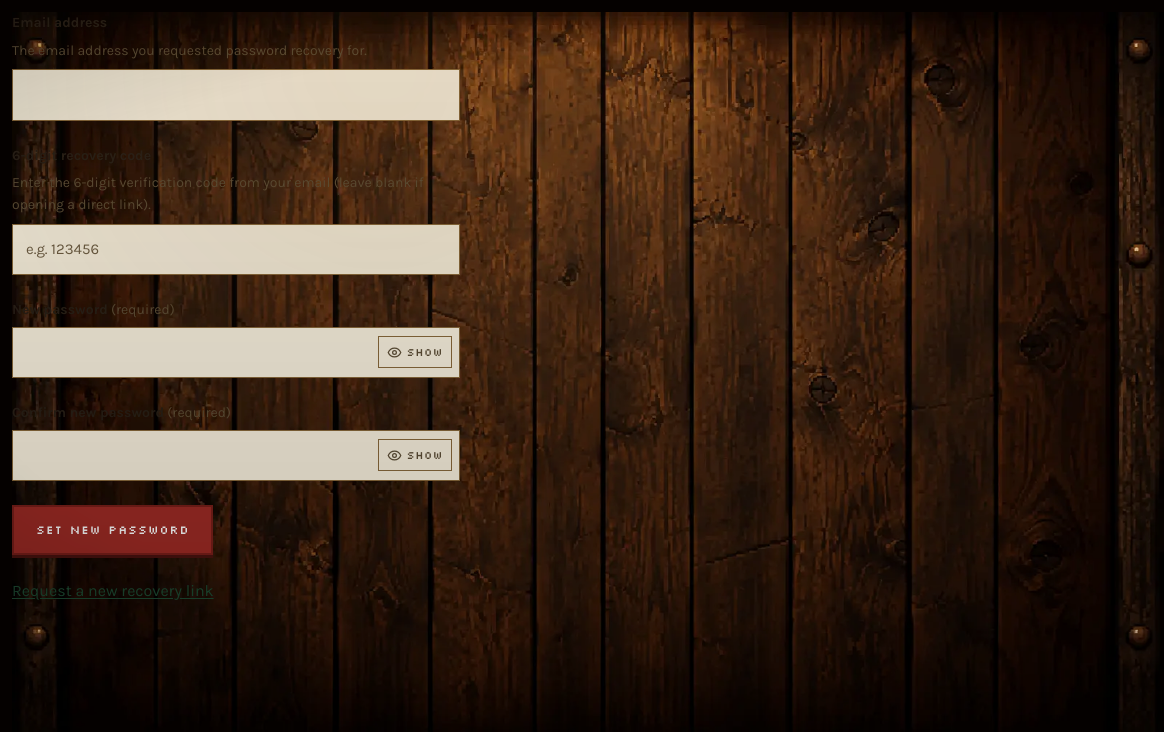
Test case: requires matching strong passwords before sending a request
Type "weak" into the password field labelled "New password (required)".
click(236, 352); type("weak")  # box [12, 327, 460, 378]
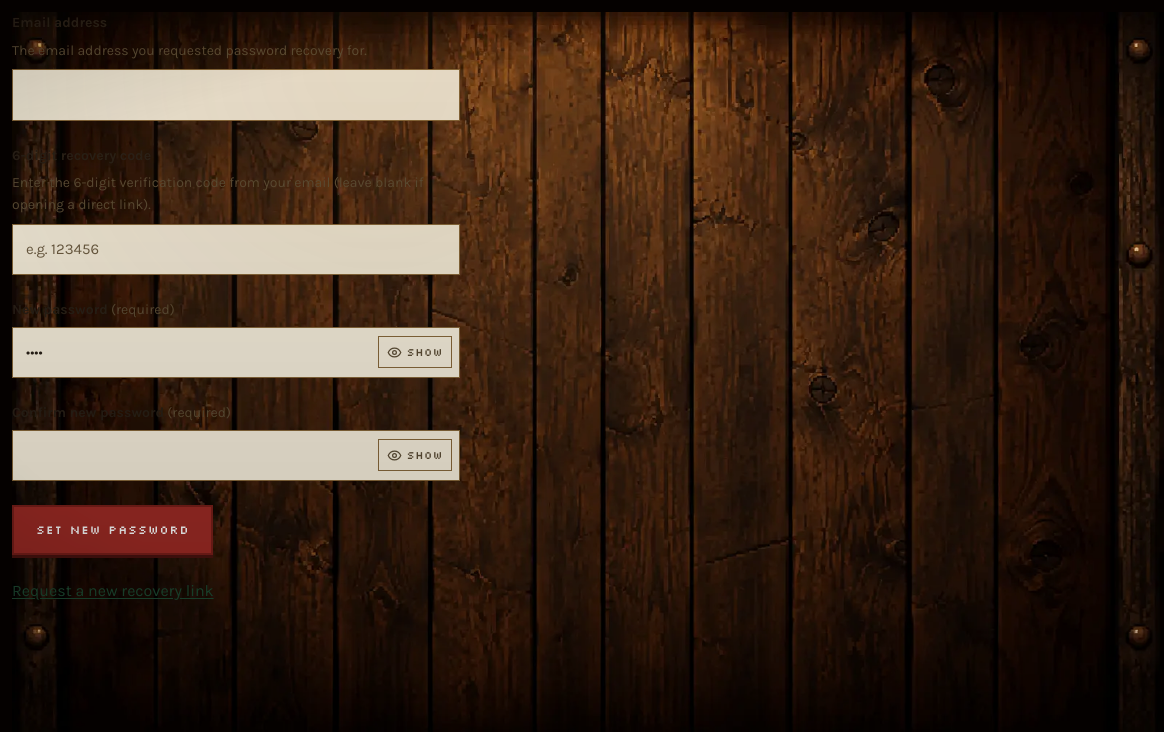
Type "different" into the password field labelled "Confirm new password (required)".
click(236, 455); type("different")  # box [12, 430, 460, 481]
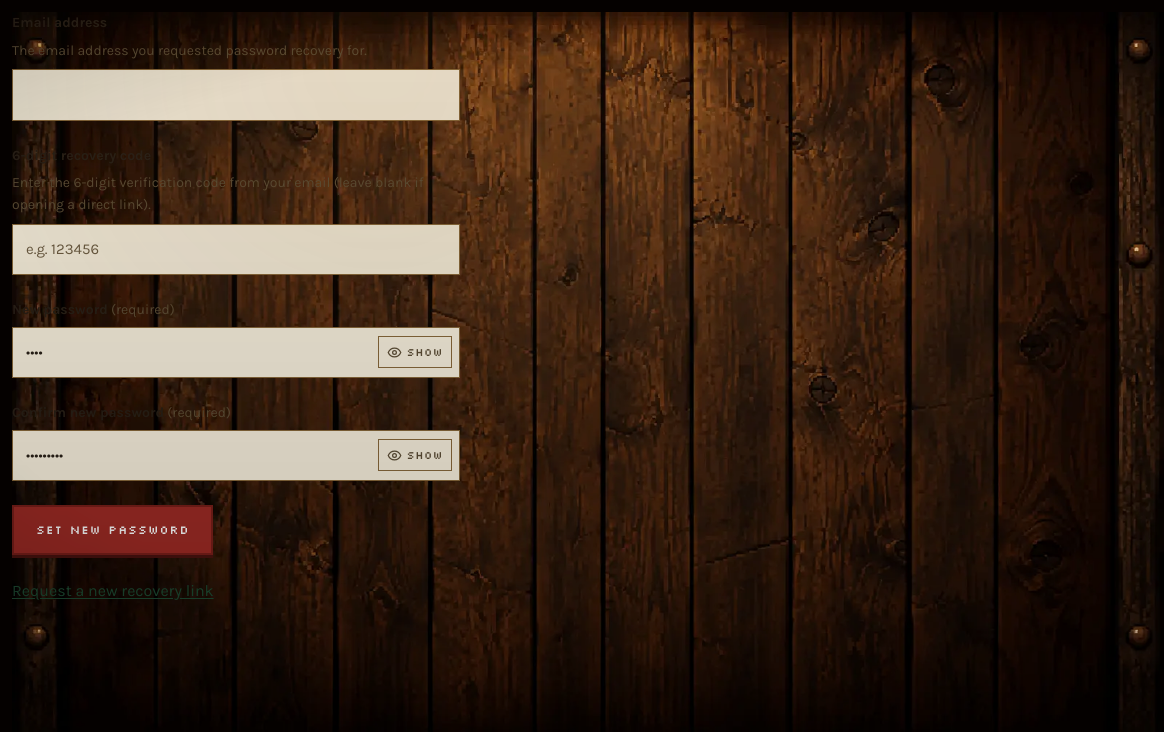
Click the button "Set new password".
click(113, 530)  # box [12, 505, 213, 555]
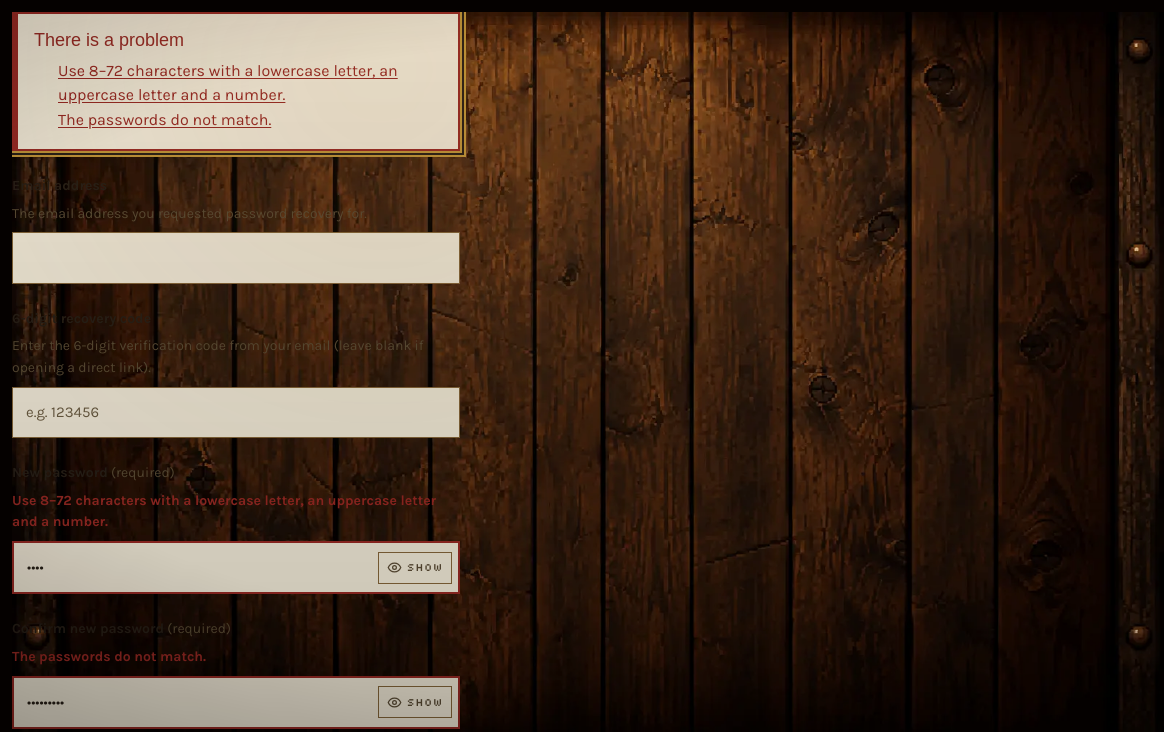
Check: the message shows "password", box [58, 110, 271, 129]
